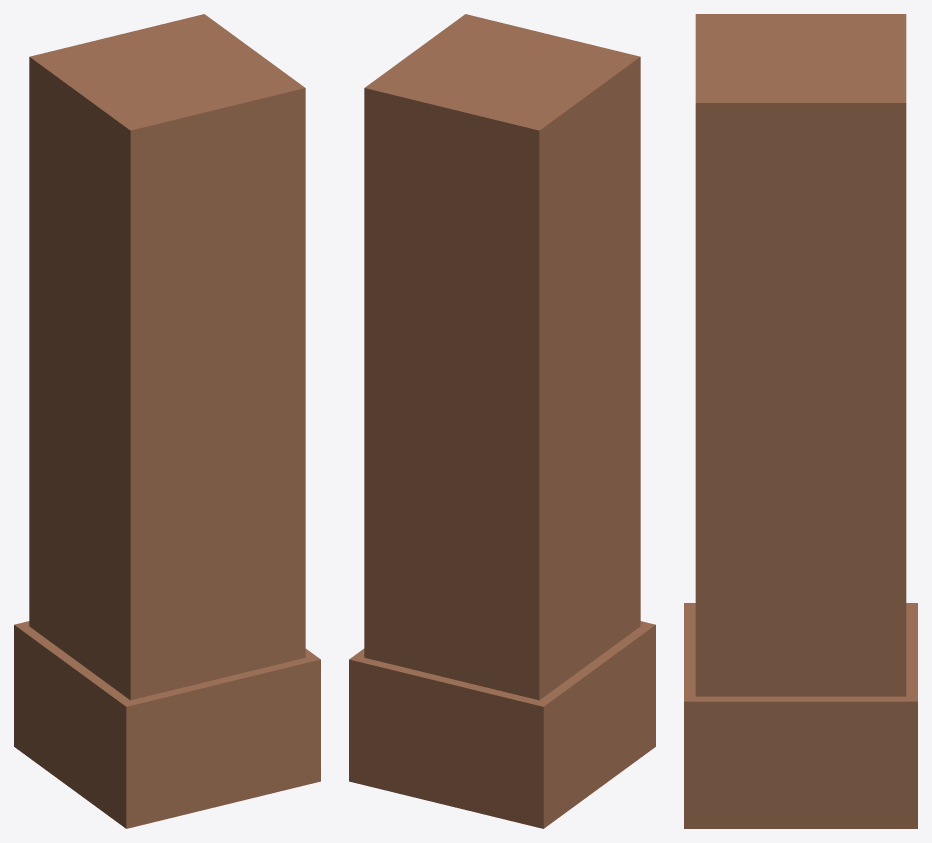
Rendered from j2_antebrazo.obj.
The picture shows the model from 3 angles, left to right: view 1: azimuth 30°, elevation 25°; view 2: azimuth 150°, elevation 25°; view 3: azimuth 270°, elevation 25°; orthographic projection. The views are drawn at different scales.
Size of the model in its own units: 0.1 by 0.34 by 0.1.
1 material, 1 textured.
